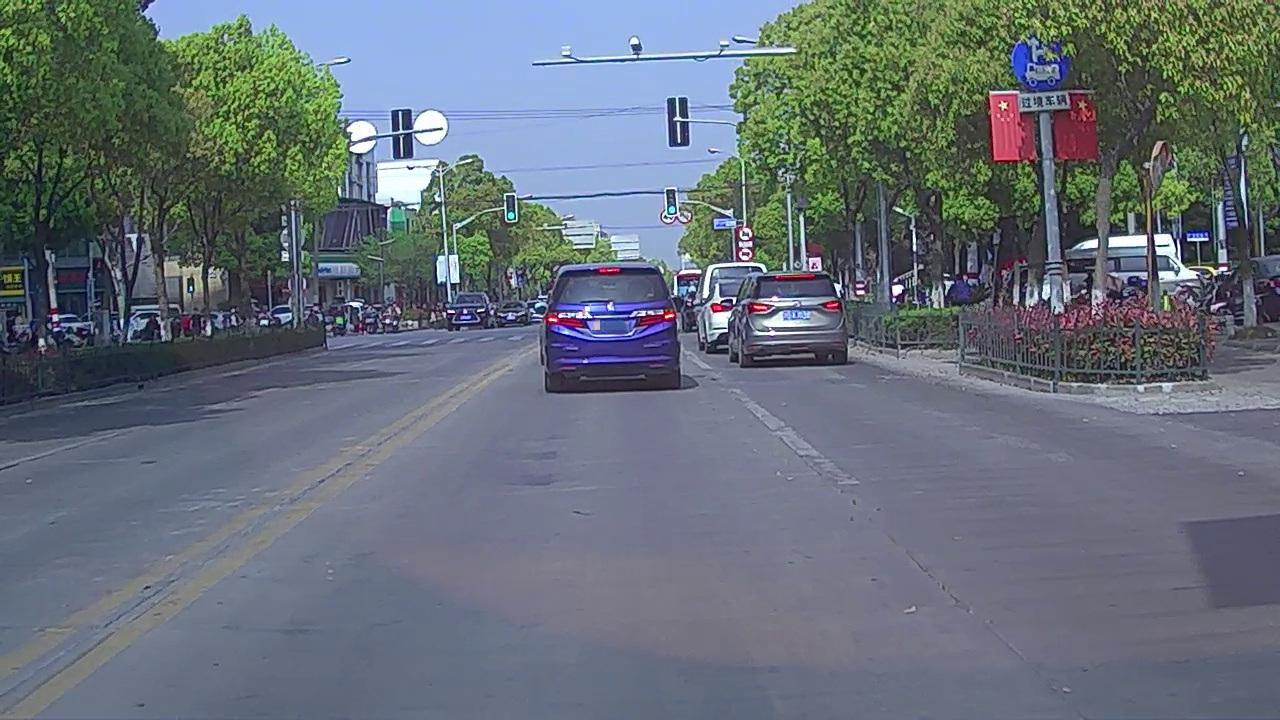traffic_light: (505, 192, 516, 221), (666, 188, 677, 215)
